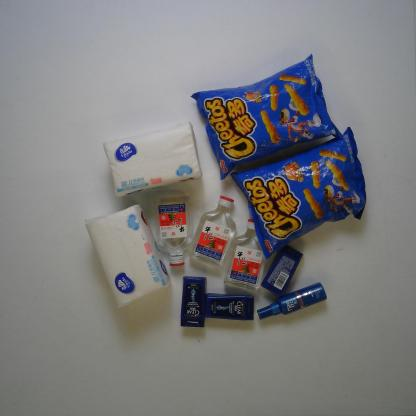Alcohol: (187, 193, 237, 270), (223, 218, 267, 292), (153, 195, 194, 267)
Personal Hygiene: (256, 282, 327, 320), (260, 245, 304, 298), (204, 292, 255, 322), (179, 276, 207, 328)
Puffed Food: (190, 52, 344, 180), (230, 125, 368, 262)
Tissue: (84, 200, 172, 310), (101, 121, 204, 200)
